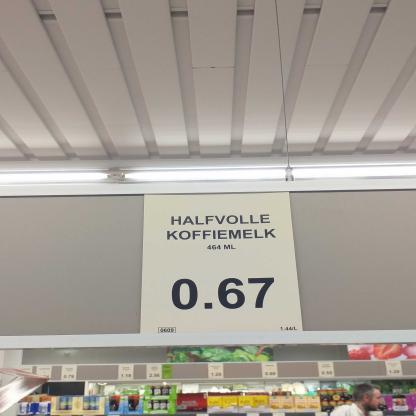prtg: (141, 192, 305, 335)
